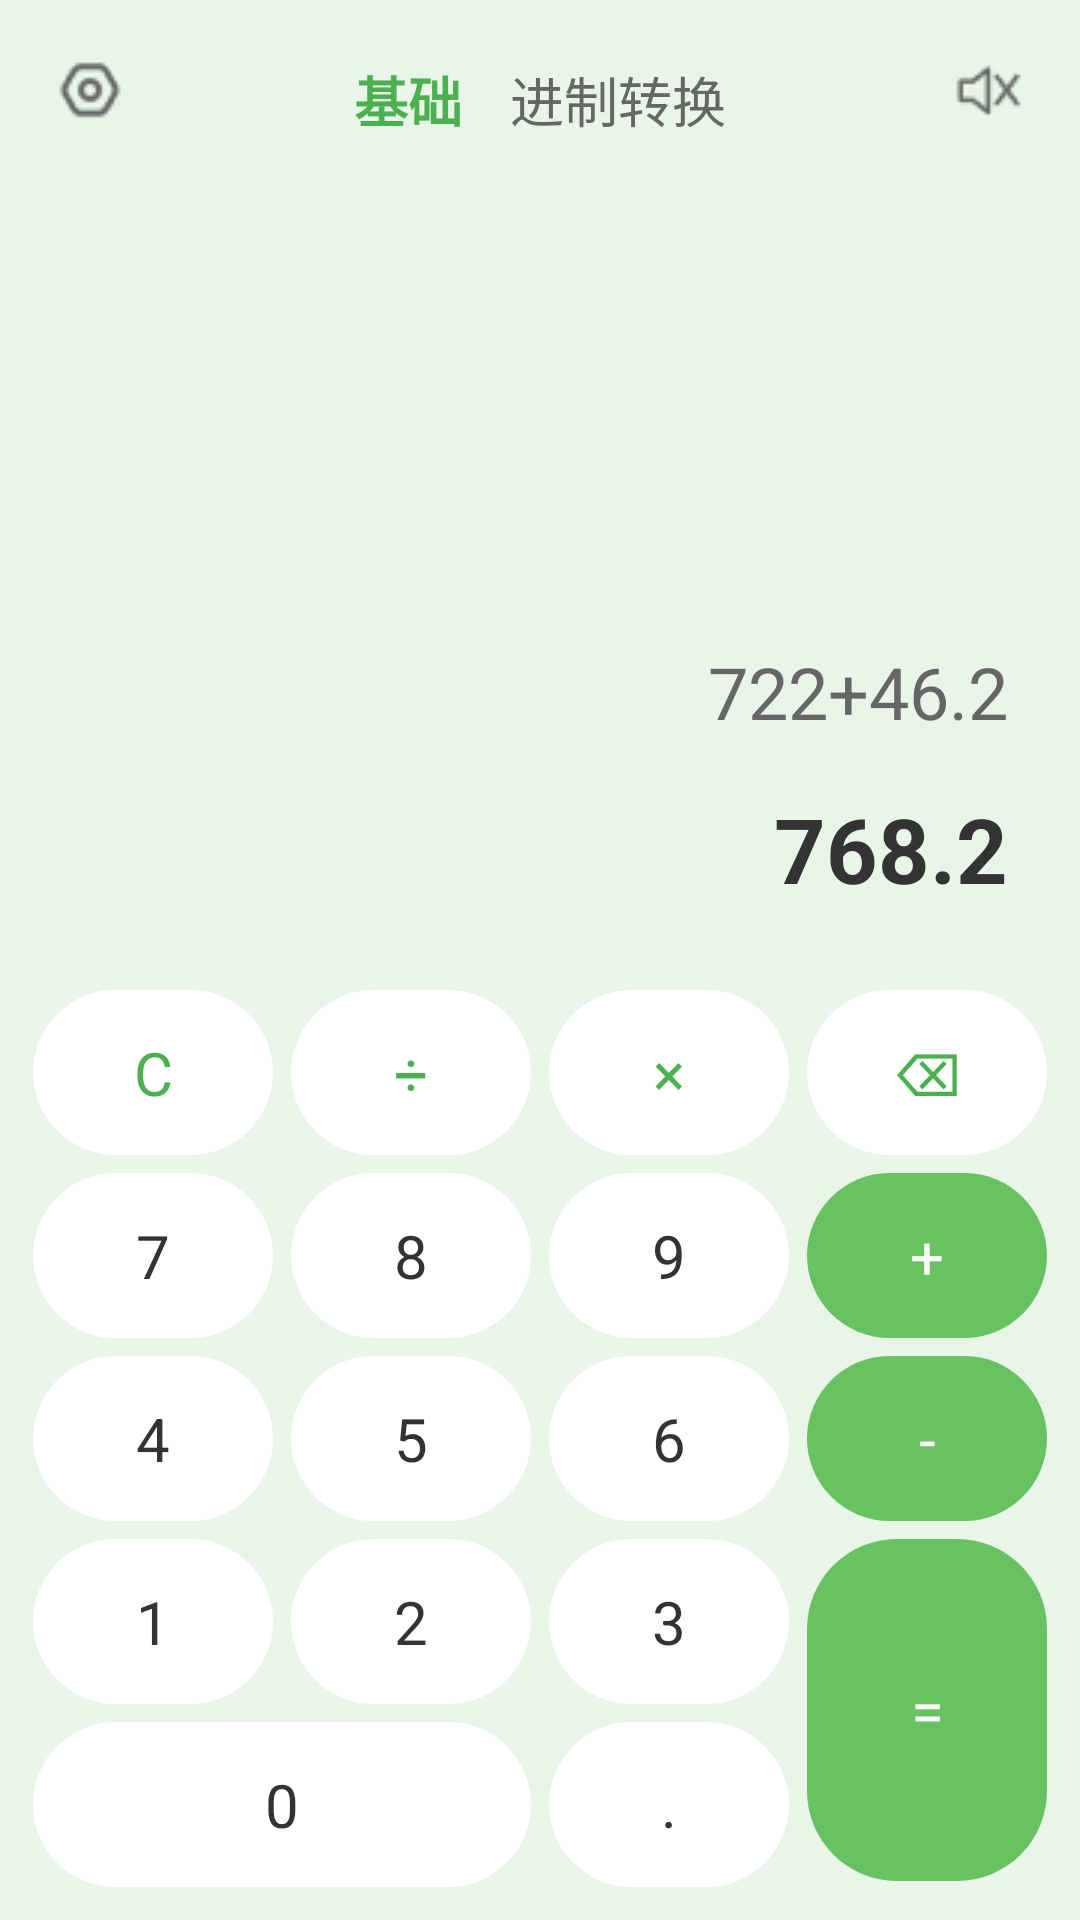

Where to tap for icons on this 1080 × 1920 app screen, as (x,y):
静音: (989,90)
